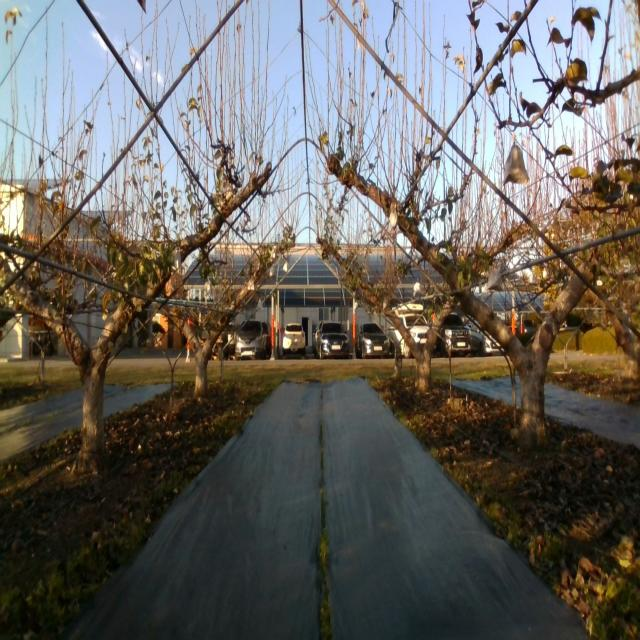pearbags: (503, 144, 529, 184), (487, 270, 503, 292)
